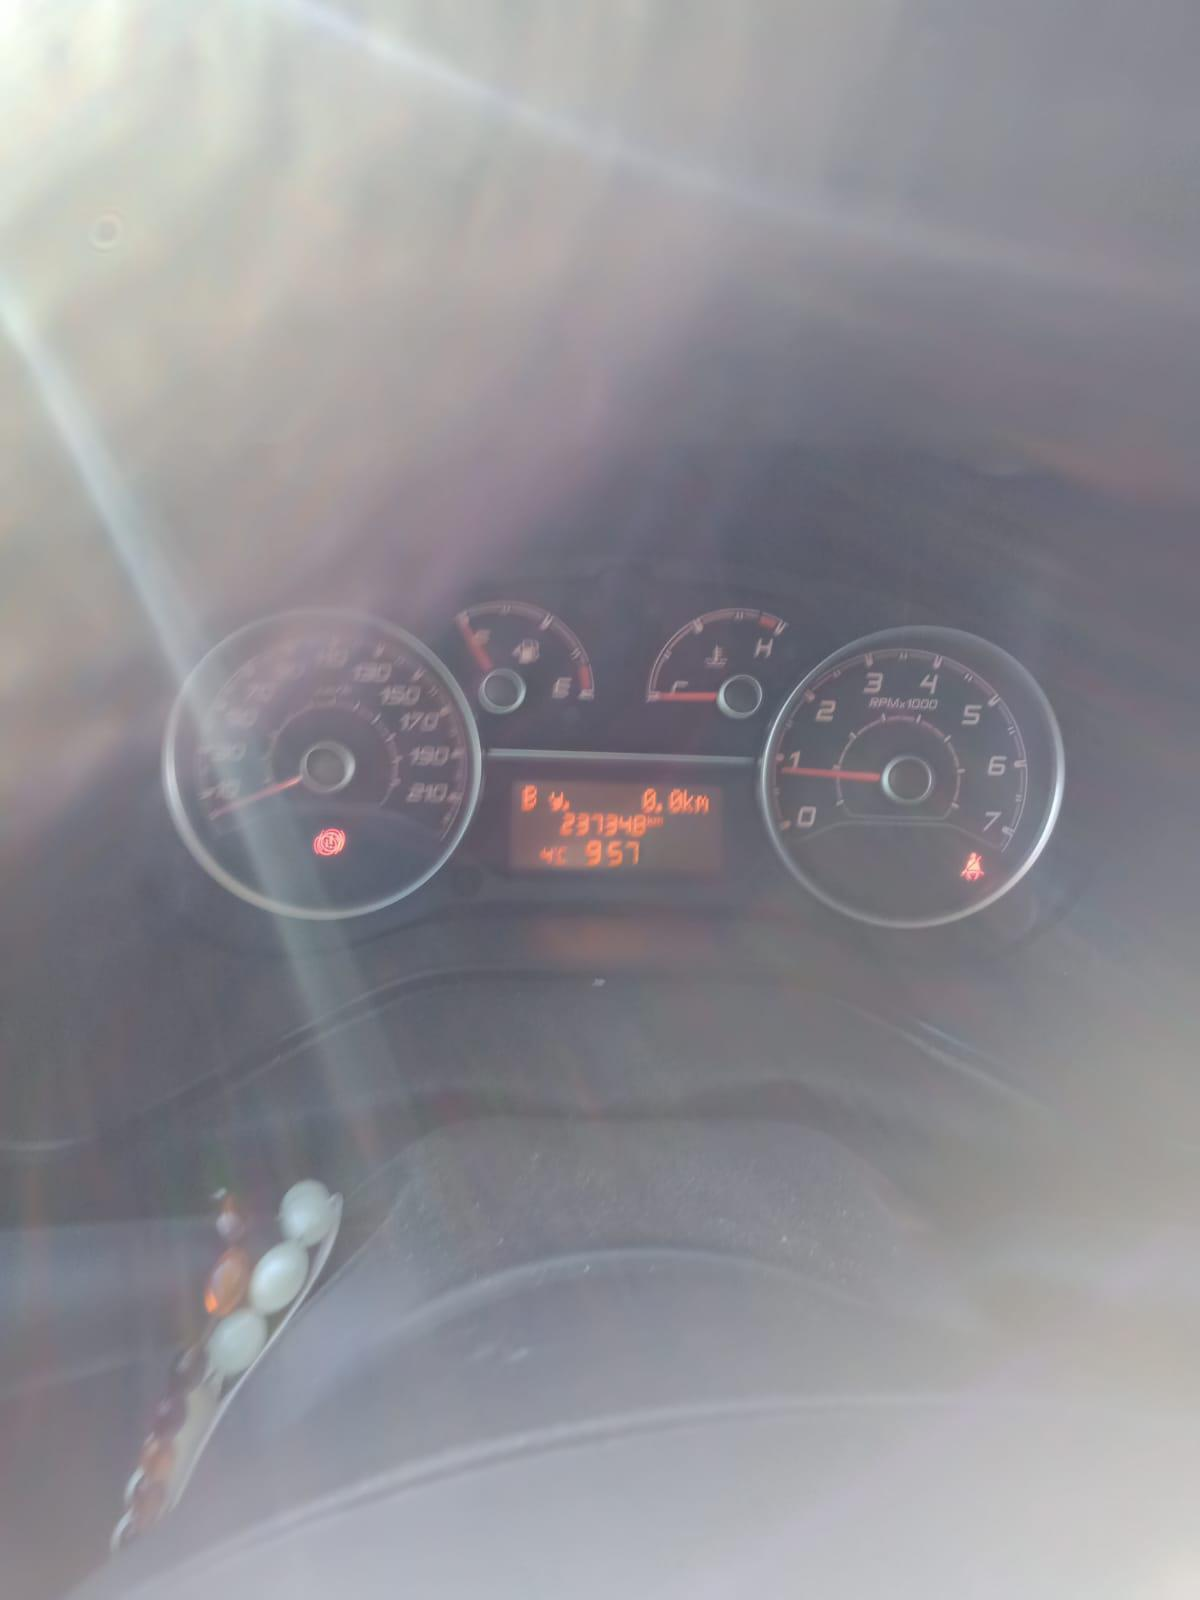,: (655, 803, 663, 813), (562, 799, 568, 810)
0: (669, 787, 683, 813), (642, 787, 655, 813)
2: (560, 813, 574, 835)
3: (575, 813, 589, 835), (605, 813, 618, 835)
4: (619, 814, 632, 833), (541, 847, 552, 866)
5: (606, 839, 621, 866)
7: (625, 840, 639, 866), (591, 813, 604, 834)
8: (632, 814, 645, 834)
9: (585, 839, 603, 866)
X: (521, 784, 537, 810), (683, 789, 695, 813), (550, 791, 563, 810), (695, 795, 708, 813), (557, 847, 570, 866), (653, 816, 664, 824), (647, 815, 652, 825)
odometer: (505, 776, 724, 874)
